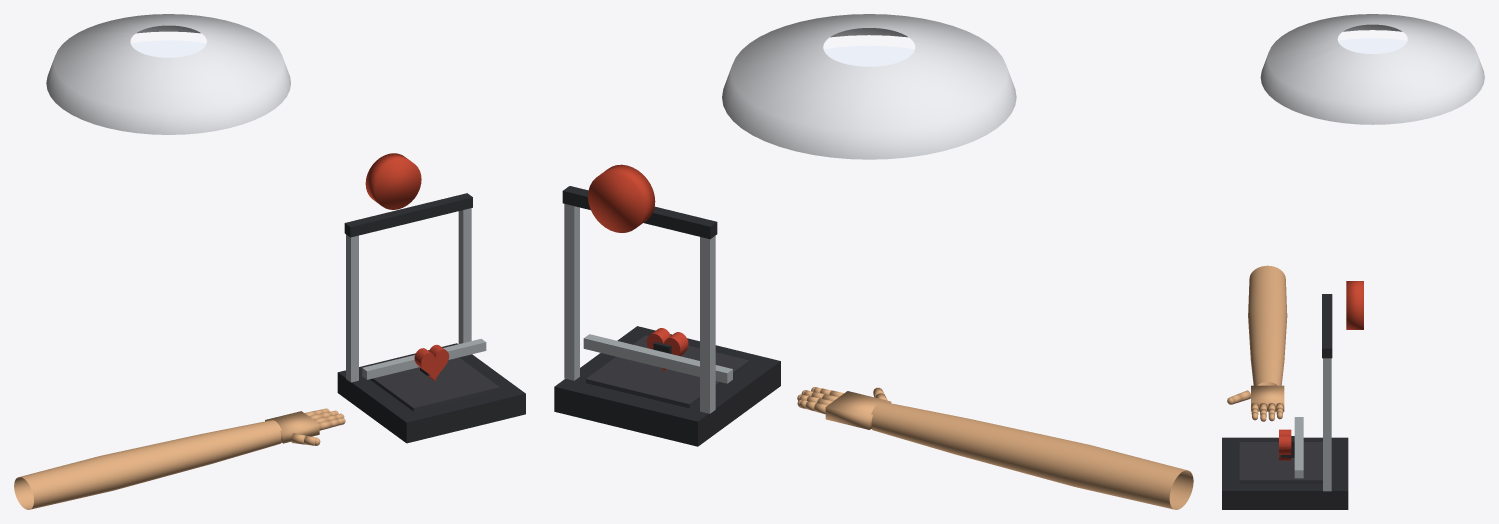
The model's file is A11_mano.glb.
3 renders of one model, left to right at view 1: azimuth 30°, elevation 25°; view 2: azimuth 150°, elevation 25°; view 3: azimuth 270°, elevation 25°, orthographic. The views are drawn at different scales.
Visible parts, largest first — view 1: disco, antebrazo, base.006, cama.001, carrete, dintel.001, columna, columna.001, carro, luz, palma, corazon; view 2: disco, antebrazo, base.006, cama.001, carrete, columna, columna.001, carro, dintel.001, luz, palma, corazon; view 3: disco, base.006, antebrazo, cama.001, columna.001, carrete, luz, dintel.001, palma, carro, corazon.
Boxes of the visible parts, x1,y1,x2,y2 form: disco: [46, 14, 290, 134]; antebrazo: [14, 420, 281, 509]; base.006: [337, 343, 525, 443]; cama.001: [370, 357, 499, 411]; carrete: [365, 153, 421, 209]; dintel.001: [344, 193, 472, 237]; columna: [346, 234, 358, 382]; columna.001: [458, 208, 471, 343]; carro: [362, 338, 486, 379]; luz: [130, 40, 206, 57]; palma: [265, 411, 319, 443]; corazon: [414, 344, 449, 381]; disco: [722, 14, 1016, 159]; antebrazo: [871, 401, 1193, 509]; base.006: [554, 326, 780, 446]; cama.001: [586, 335, 749, 408]; carrete: [588, 164, 655, 232]; columna: [700, 235, 715, 413]; columna.001: [564, 204, 579, 380]; carro: [583, 334, 732, 383]; dintel.001: [562, 186, 717, 239]; luz: [823, 45, 914, 66]; palma: [825, 391, 891, 429]; corazon: [646, 328, 688, 371]; disco: [1260, 14, 1484, 124]; base.006: [1222, 437, 1348, 509]; antebrazo: [1248, 265, 1287, 385]; cama.001: [1239, 442, 1322, 483]; columna.001: [1323, 358, 1331, 491]; carrete: [1346, 281, 1363, 329]; luz: [1338, 38, 1407, 54]; dintel.001: [1322, 294, 1332, 358]; palma: [1251, 385, 1284, 411]; carro: [1294, 417, 1303, 478]; corazon: [1279, 429, 1291, 460].
Size of the model in its own units: 1.44 by 1.09 by 0.75.
Materials: 4 (4 with a texture image).
